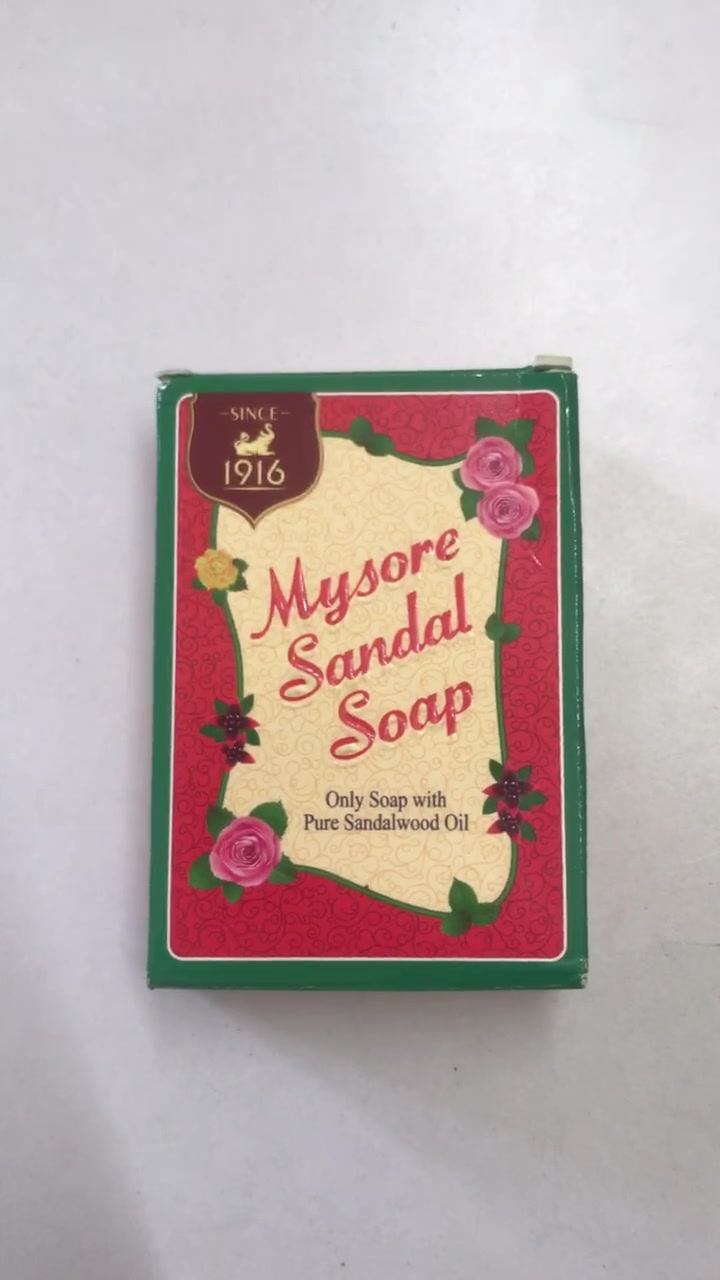mysore sandal soap: (153, 371, 585, 991)
